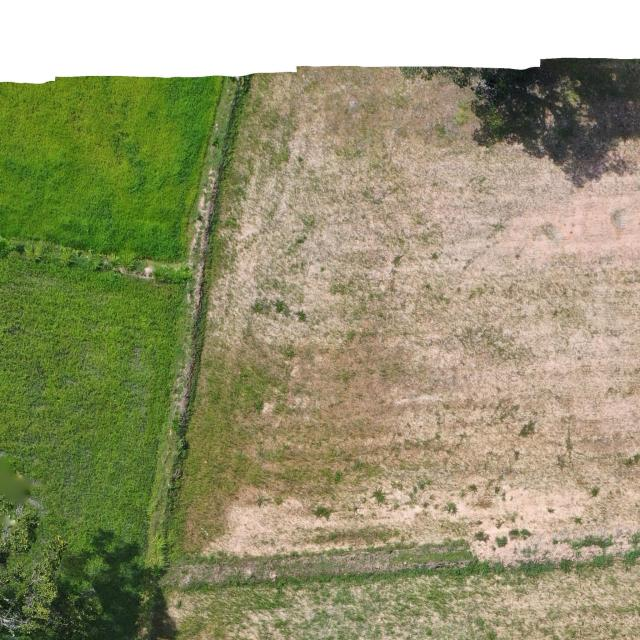Tree: (0, 491, 101, 640)
